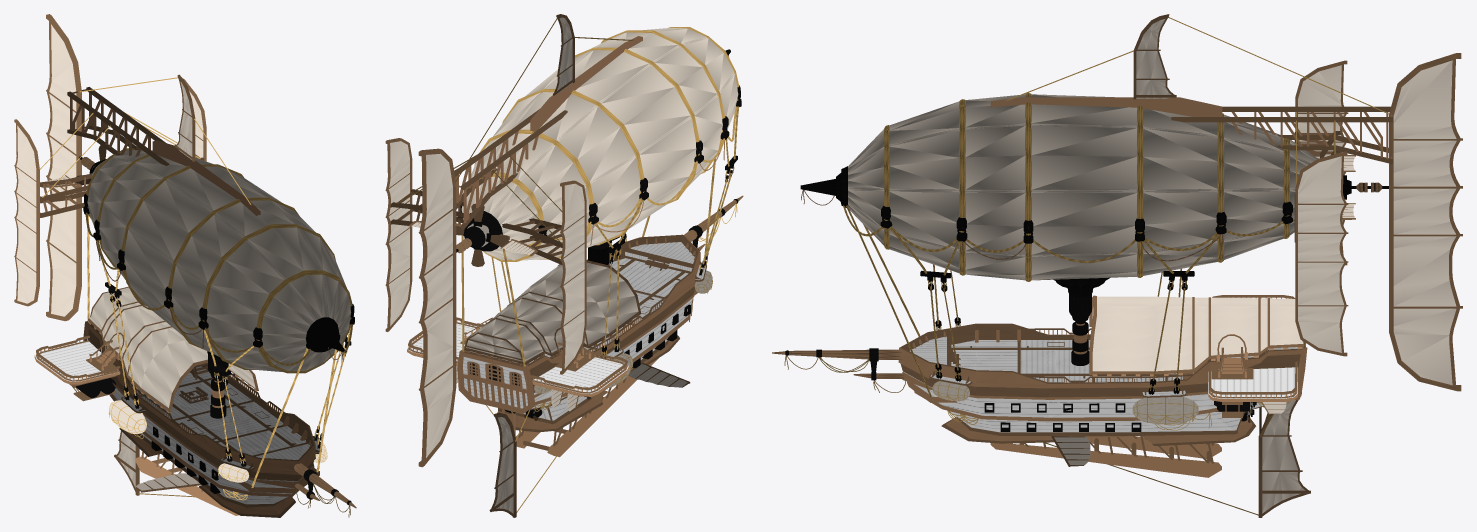
Rendered from FantasyShip_v2.glb.
3 renders of one model, left to right at view 1: azimuth 30°, elevation 25°; view 2: azimuth 150°, elevation 25°; view 3: azimuth 270°, elevation 25°, orthographic. The views are drawn at different scales.
Visible parts, largest first — view 1: node_id37, mesh_id5, node_id47, node_id23, node_id53, node_id43, mesh_id62, node_id35, node_id29, node_id21, node_id45, node_id59 (+7 smaller); view 2: node_id37, mesh_id5, node_id47, node_id23, node_id43, node_id53, node_id51, mesh_id62, node_id35, node_id84, node_id21, node_id15 (+7 smaller); view 3: node_id37, mesh_id5, node_id47, node_id23, node_id51, node_id43, node_id15, mesh_id62, node_id84, node_id35, node_id53, node_id29 (+5 smaller).
Boxes of the visible parts, x1,y1,x2,y2 form: node_id37: [80, 148, 354, 373]; mesh_id5: [83, 321, 321, 517]; node_id47: [46, 14, 81, 321]; node_id23: [88, 287, 258, 412]; node_id53: [14, 119, 39, 306]; node_id43: [67, 87, 260, 215]; mesh_id62: [34, 335, 120, 401]; node_id35: [87, 184, 351, 488]; node_id29: [108, 376, 327, 500]; node_id21: [87, 286, 258, 410]; node_id45: [40, 154, 204, 217]; node_id59: [174, 74, 195, 161]; node_id37: [456, 27, 741, 262]; mesh_id5: [457, 234, 706, 432]; node_id47: [418, 148, 456, 467]; node_id23: [464, 260, 641, 365]; node_id43: [454, 36, 642, 229]; node_id53: [560, 180, 586, 374]; node_id51: [385, 138, 412, 331]; mesh_id62: [407, 317, 628, 399]; node_id35: [461, 106, 739, 366]; node_id84: [489, 412, 516, 517]; node_id21: [464, 293, 639, 365]; node_id15: [515, 358, 658, 457]; node_id37: [800, 92, 1351, 297]; mesh_id5: [898, 323, 1307, 445]; node_id47: [1389, 53, 1462, 391]; node_id23: [1089, 295, 1304, 376]; node_id51: [1295, 151, 1348, 356]; node_id43: [990, 97, 1392, 164]; node_id15: [990, 436, 1221, 477]; mesh_id62: [1208, 295, 1297, 417]; node_id84: [1258, 392, 1310, 517]; node_id35: [846, 205, 1305, 397]; node_id53: [1295, 60, 1348, 265]; node_id29: [932, 381, 1290, 430].
Bounding box in the file's own units: 0.2161 × 0.512 × 0.6376.
Materials: 44 (44 with a texture image).
